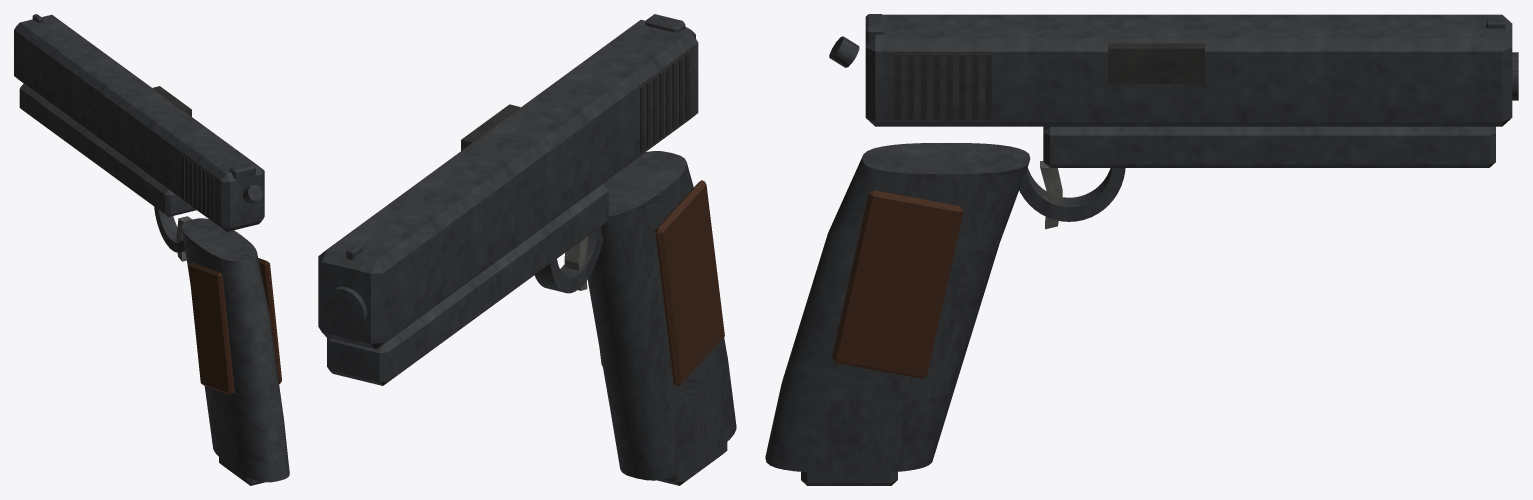
Rendered from colt.glb.
The picture shows the model from 3 angles, left to right: view 1: azimuth 30°, elevation 25°; view 2: azimuth 150°, elevation 25°; view 3: azimuth 270°, elevation 25°; orthographic projection. The views are drawn at different scales.
Visible parts, largest first — view 1: FP_body, FP_slide, TP_body; view 2: FP_slide, FP_body, TP_body, FP_trigger, FP_mag; view 3: FP_body, FP_slide, TP_body, FP_mag.
Part boxes in pixels (x1=…): FP_body: x1=19, y1=83, x2=289, y2=482; FP_slide: x1=14, y1=14, x2=264, y2=231; TP_body: x1=181, y1=219, x2=289, y2=482; FP_slide: x1=318, y1=14, x2=698, y2=349; FP_body: x1=327, y1=26, x2=736, y2=480; TP_body: x1=591, y1=151, x2=736, y2=485; FP_trigger: x1=564, y1=236, x2=588, y2=290; FP_mag: x1=657, y1=442, x2=727, y2=485; FP_body: x1=765, y1=36, x2=1495, y2=473; FP_slide: x1=865, y1=14, x2=1518, y2=126; TP_body: x1=767, y1=143, x2=1028, y2=471; FP_mag: x1=801, y1=472, x2=897, y2=485.
Bounding box in the file's own units: 0.0286 × 0.155 × 0.233.
Materials: 4 (3 with a texture image).
